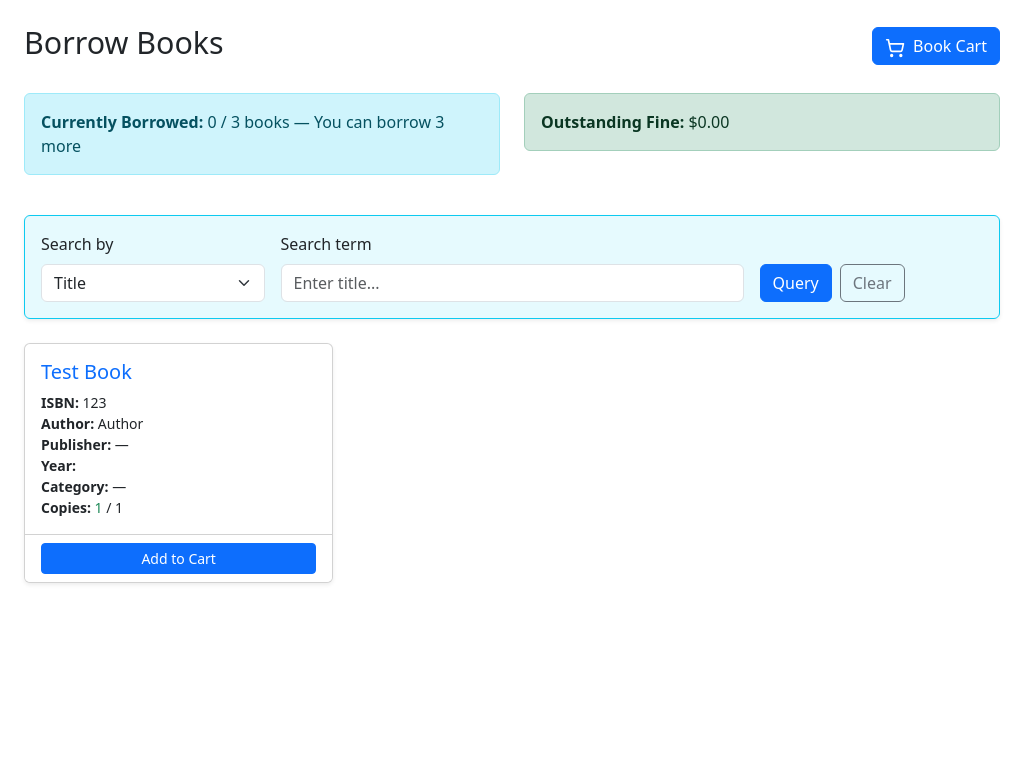
BorrowBooks › member borrows 1 book, button says 'In Cart'
This screenshot has width=1024, height=768.
Step 1. Click the button "Add to Cart" → (179, 558), box [41,542,316,574]
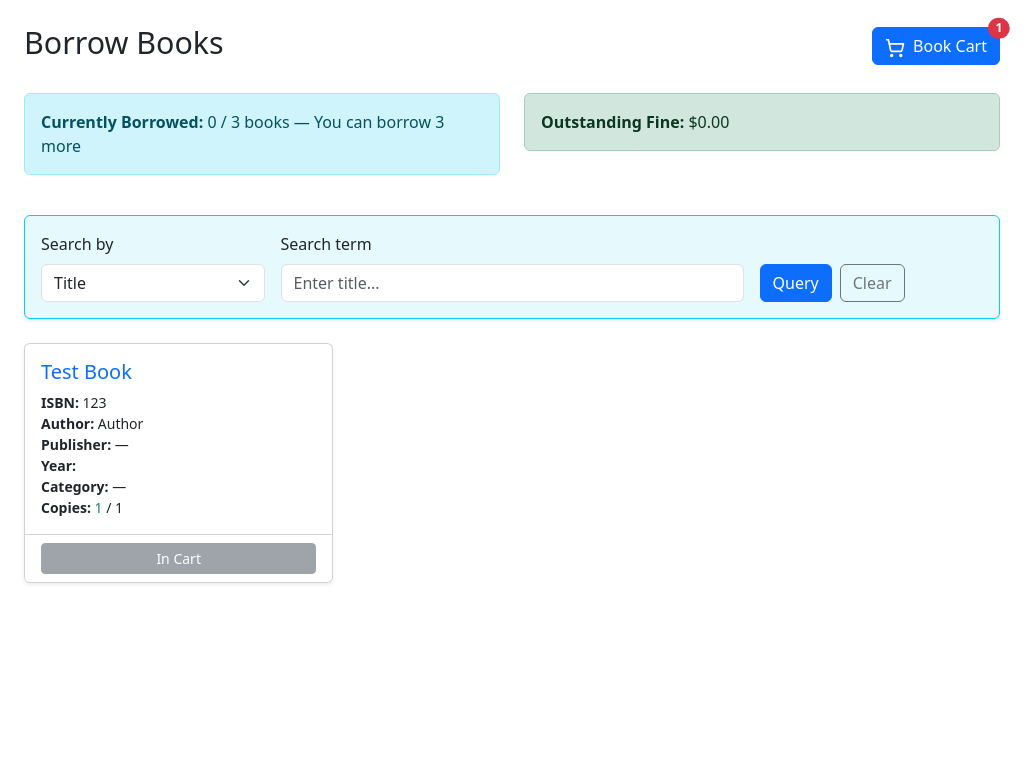
Expected: the button "In Cart" is shown, [41,542,316,574]
